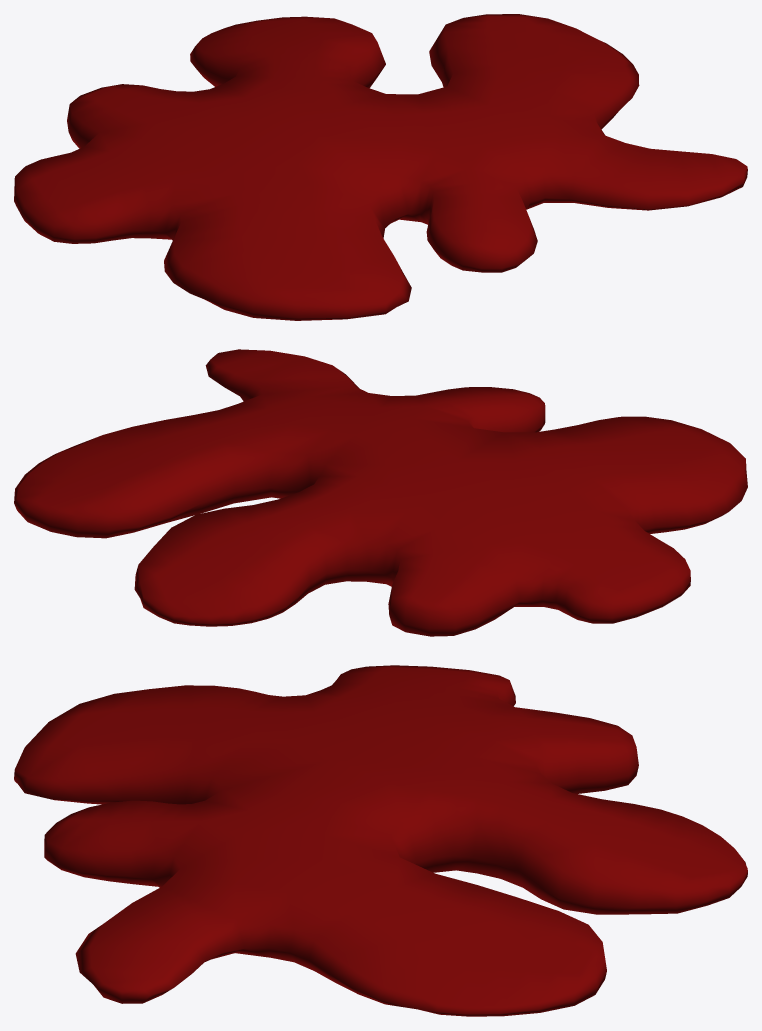
The model's file is m_sauce_2.FBX.
3 renders of one model, top to bottom at view 1: azimuth 30°, elevation 25°; view 2: azimuth 150°, elevation 25°; view 3: azimuth 270°, elevation 25°, orthographic. The views are drawn at different scales.
Visible parts, largest first — view 1: m_sauce_2; view 2: m_sauce_2; view 3: m_sauce_2.
Part boxes in pixels (bbox=[...]): m_sauce_2: bbox=[14, 14, 747, 320]; m_sauce_2: bbox=[14, 349, 747, 636]; m_sauce_2: bbox=[14, 665, 747, 1016].
Bounding box in the file's own units: 159 × 14.01 × 145.
